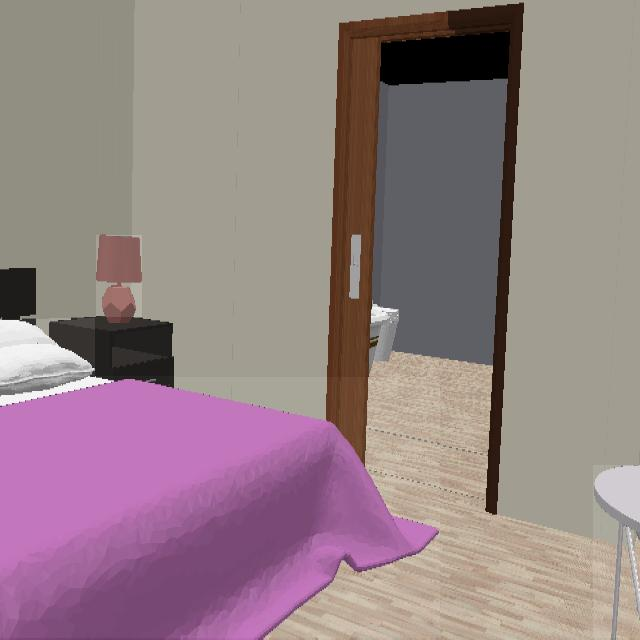bed: (0, 377, 440, 639)
lamp: (96, 235, 142, 325)
nighttable: (49, 317, 174, 388)
pillow: (0, 319, 95, 393)
table: (593, 465, 640, 639)
